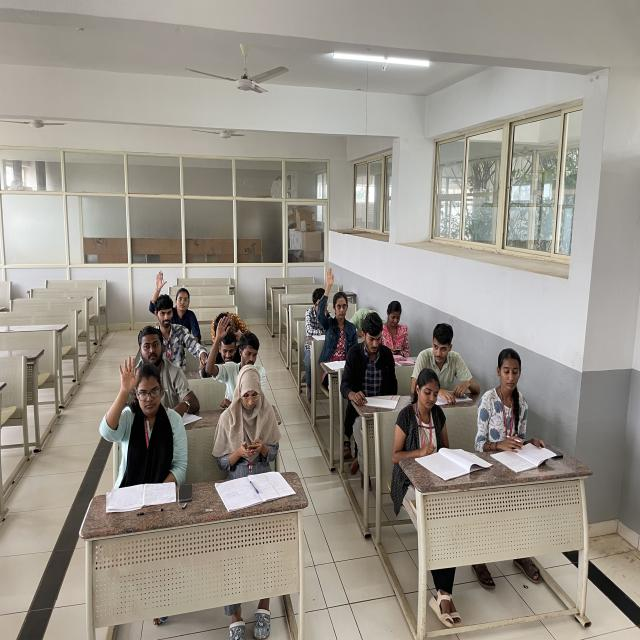Hand Rising: (95, 352, 192, 480), (211, 313, 273, 406), (141, 254, 209, 332), (311, 264, 358, 347)
Reading: (471, 346, 543, 478), (392, 375, 482, 480), (344, 316, 404, 406)
Sleeping: (204, 291, 262, 341), (349, 292, 387, 336)
Using Phone: (218, 371, 301, 468), (379, 296, 419, 355)
